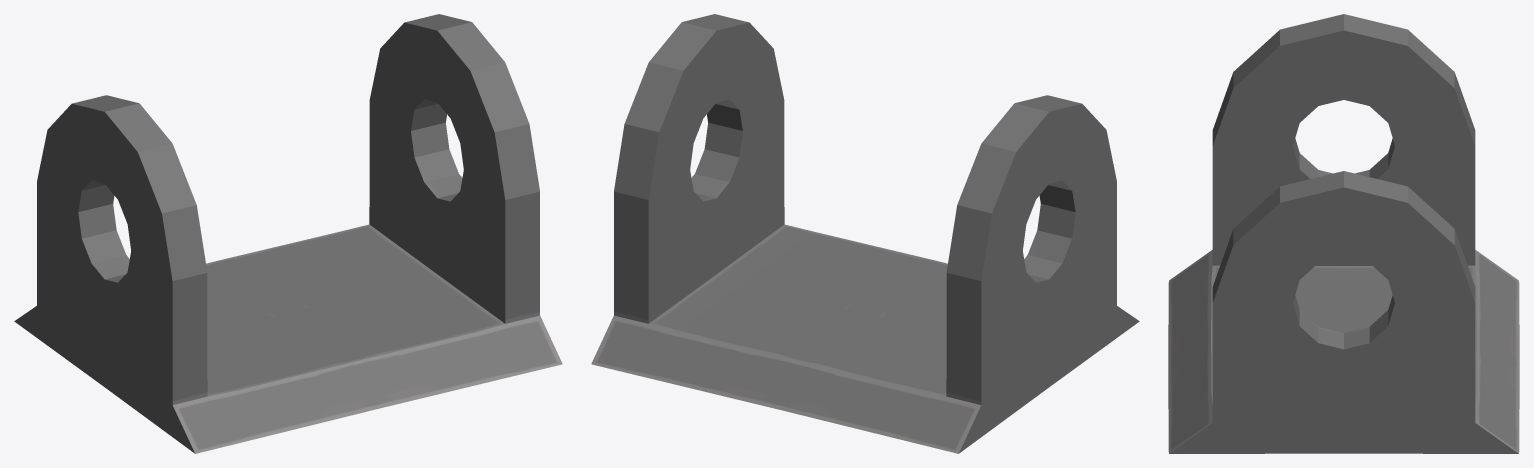
The model's file is HybridTech.fbx.
3 renders of one model, left to right at view 1: azimuth 30°, elevation 25°; view 2: azimuth 150°, elevation 25°; view 3: azimuth 270°, elevation 25°, orthographic. The views are drawn at different scales.
Parts seen in each view (by area): view 1: HybridHinge011; view 2: HybridHinge011; view 3: HybridHinge011.
Boxes of the visible parts, <box> form: HybridHinge011: <box>14,14,562,453</box>; HybridHinge011: <box>591,14,1139,453</box>; HybridHinge011: <box>1168,14,1519,453</box>.
Size of the model in its own units: 32.11 by 23.03 by 27.53.
